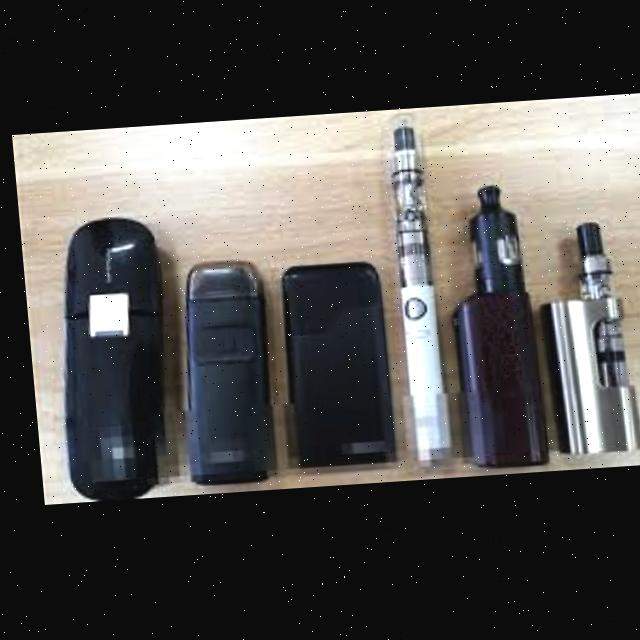vape: (439, 191, 543, 476), (526, 228, 634, 466), (382, 122, 442, 473)
